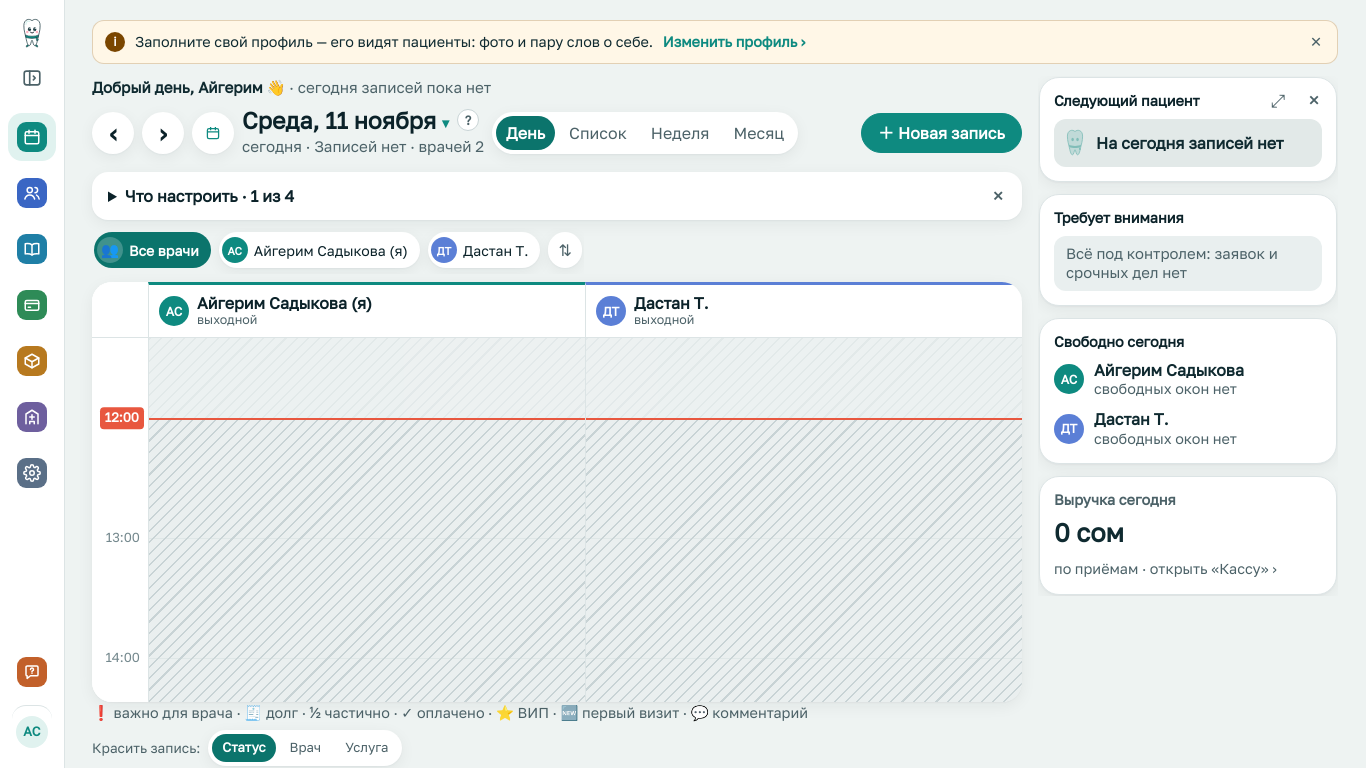
Test: «＋ Новая запись» на всех врачах: выбрали пациента в поиске — врачом становится его лечащий
(page scrolled)
Click the button "＋ Новая запись" at (942, 132), box [861,112,1022,152]
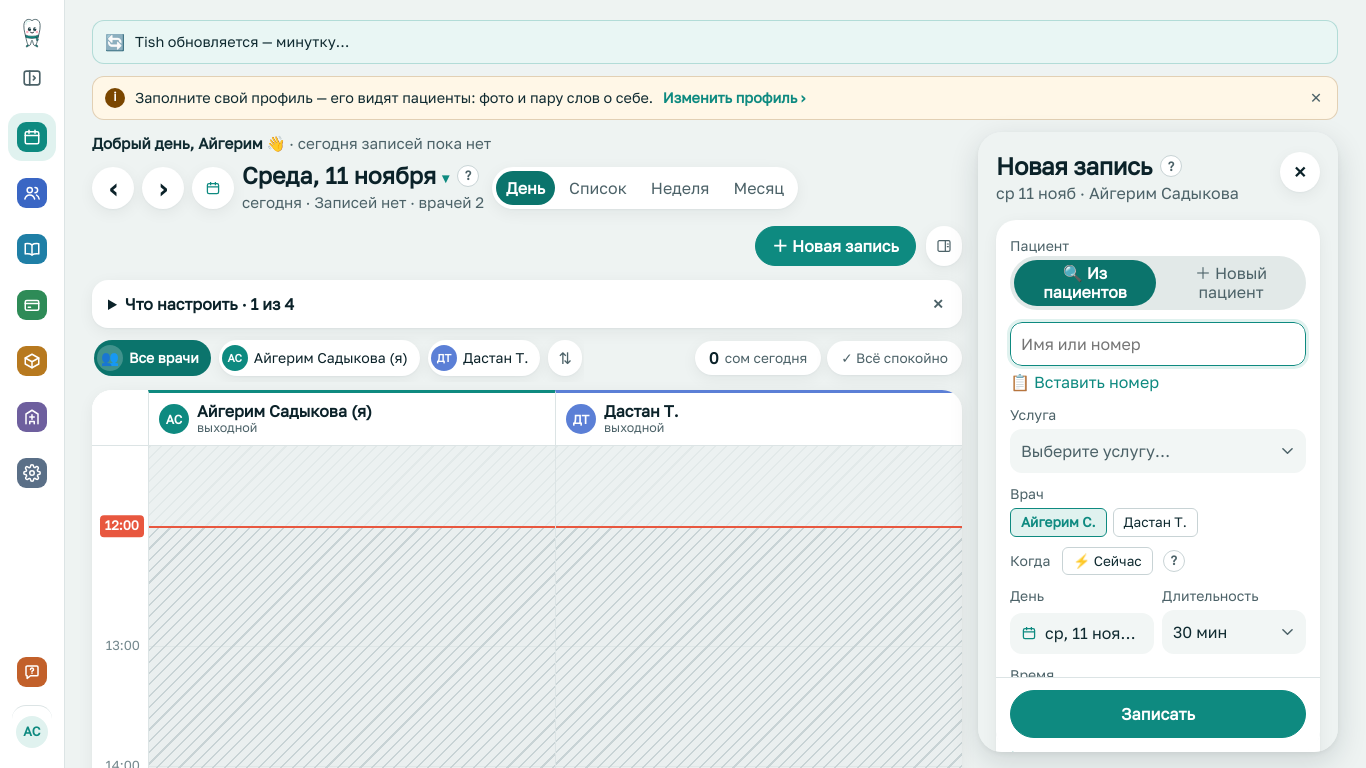
Type "Нур" into the search field named "Найти пациента" at (1158, 344), box [1010,322,1306,366]
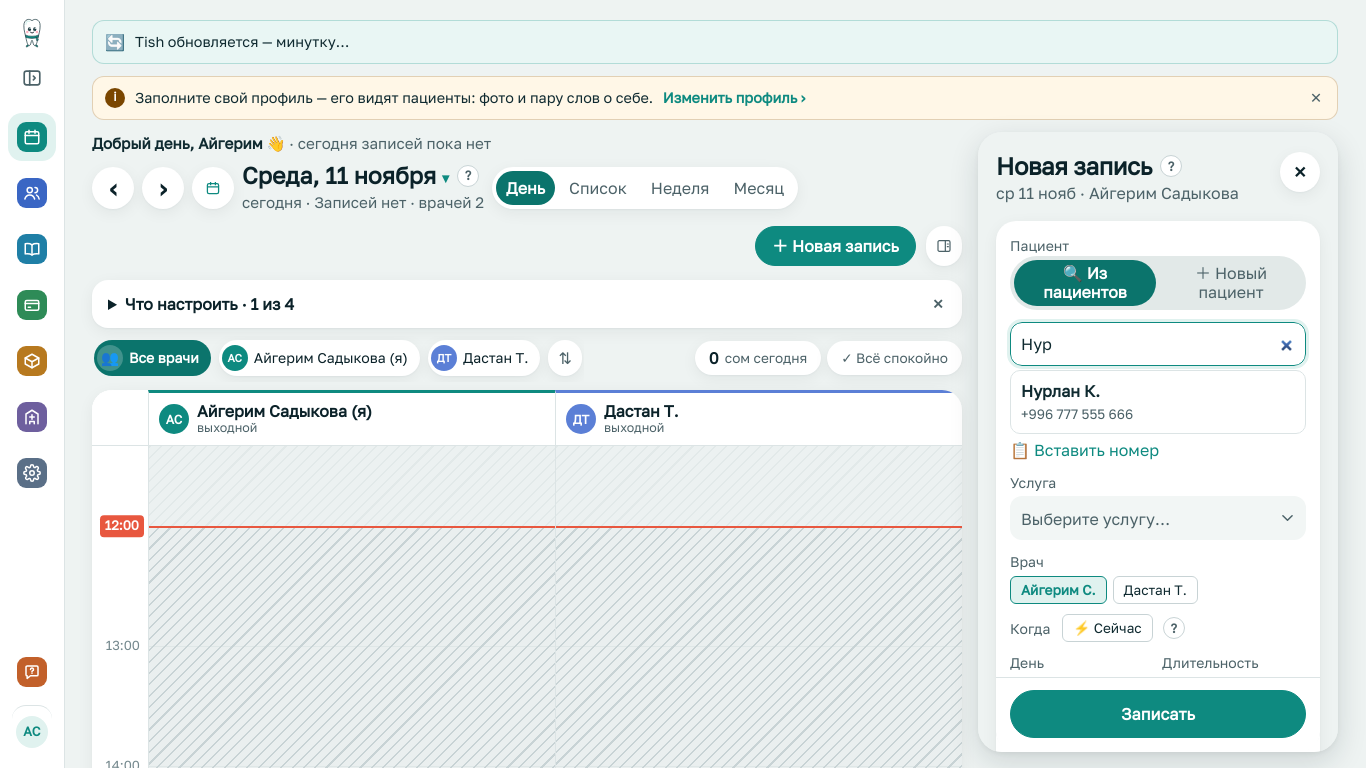
Click the button "Нурлан К. +996 777 555 666" at (1060, 391), box [1011,371,1305,432]
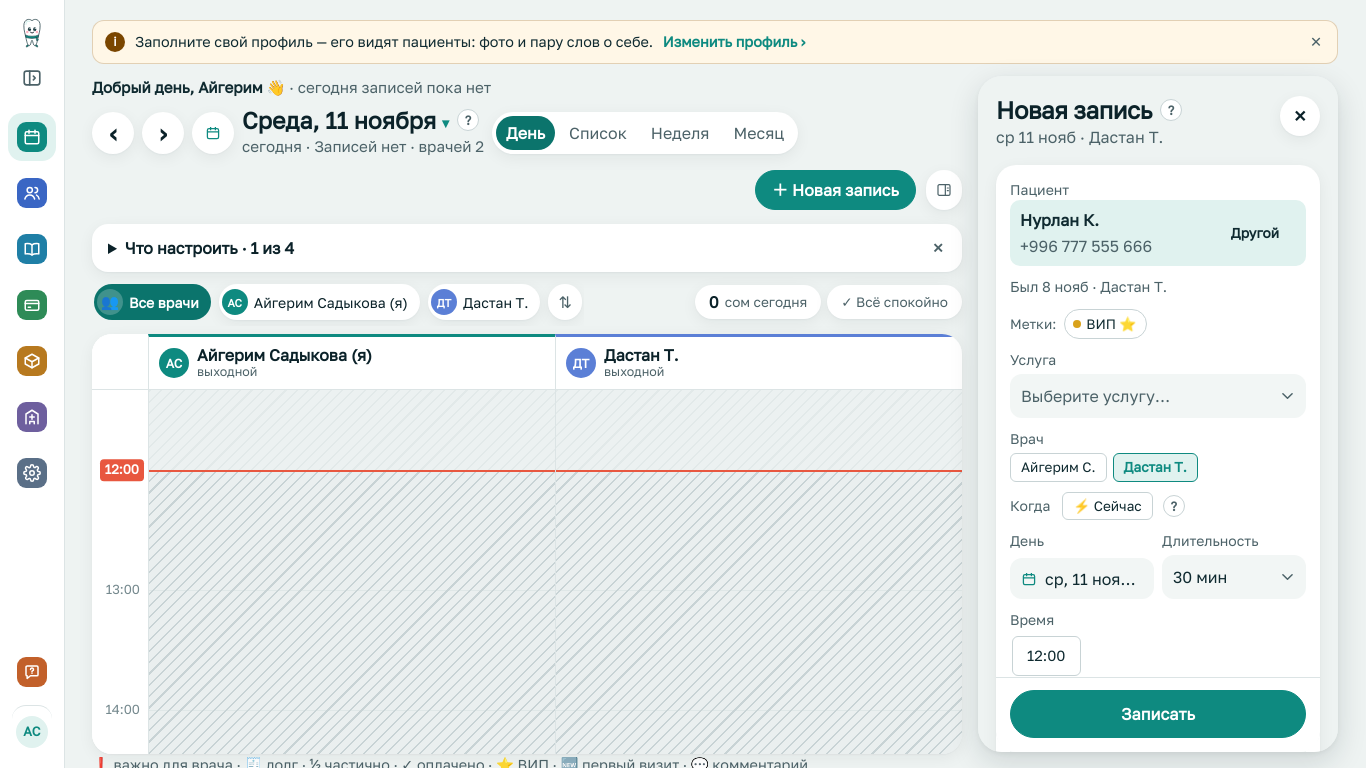
Check: the text "Дастан Т." is shown, box [604,346,678,365]
Check: the element named "О пациенте" is shown, box [1010,278,1167,295]
